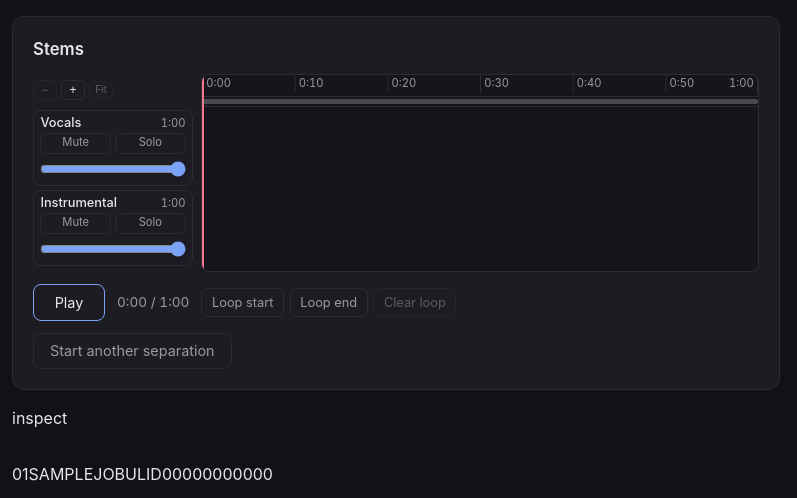
Scenario: StemPlayer loop region (feature 053) › offers Clear loop only when there is one, and clears it
Check: the button with aria-label "Mute vocals" is shown, box [40,133,111,154]
Check: the button "Play" is enabled, box [33,284,105,321]
Click the button "Loop start" at (243, 302), box [201,288,284,317]
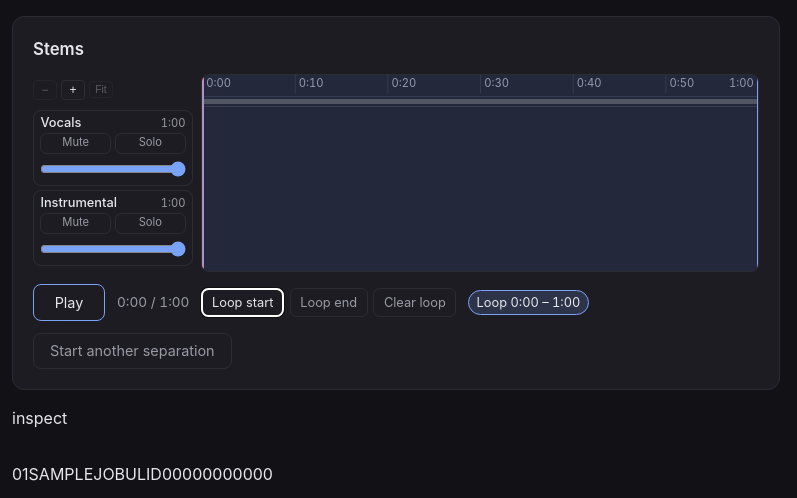
Check: the button "Clear loop" is enabled
Click the button "Clear loop" at (415, 302), box [373,288,456,317]
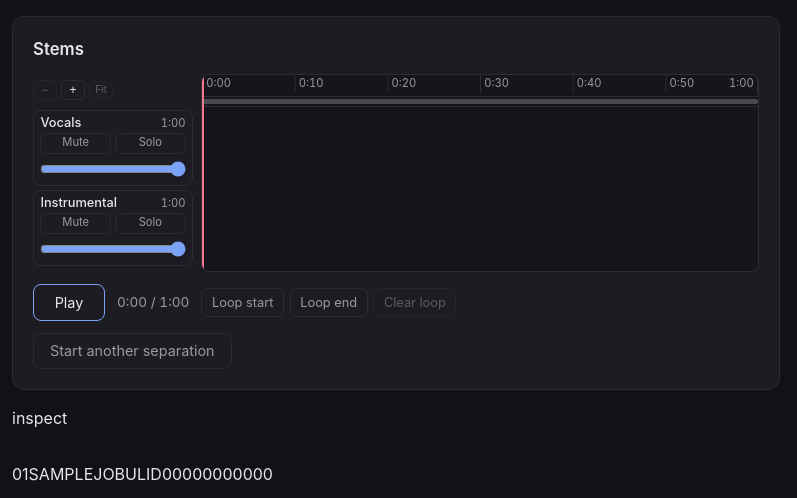
Check: the text with class "stem-player-loop-badge" is gone
Check: the button "Clear loop" is disabled, box [373,288,456,317]
